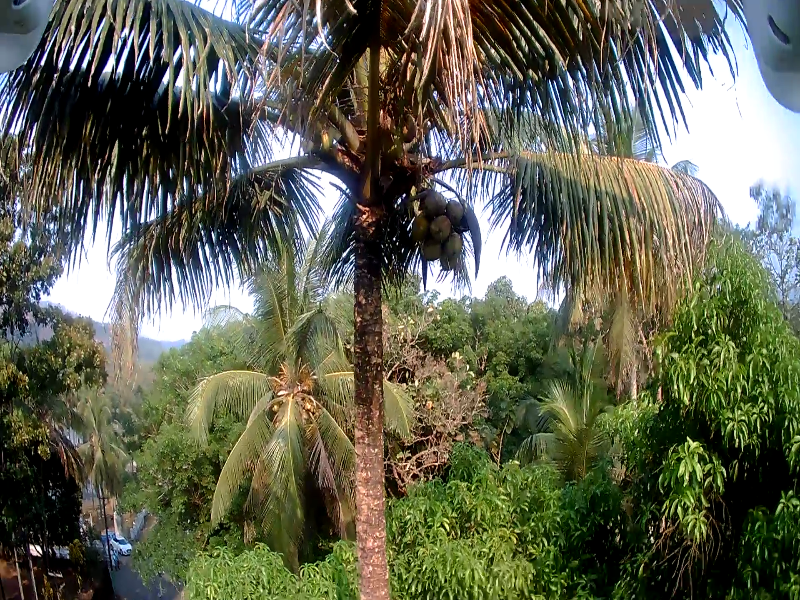coconut: (422, 189, 446, 210), (399, 113, 418, 139), (443, 228, 460, 257), (432, 218, 450, 239), (444, 198, 461, 220), (412, 216, 428, 239), (318, 132, 333, 153), (416, 243, 435, 253)
